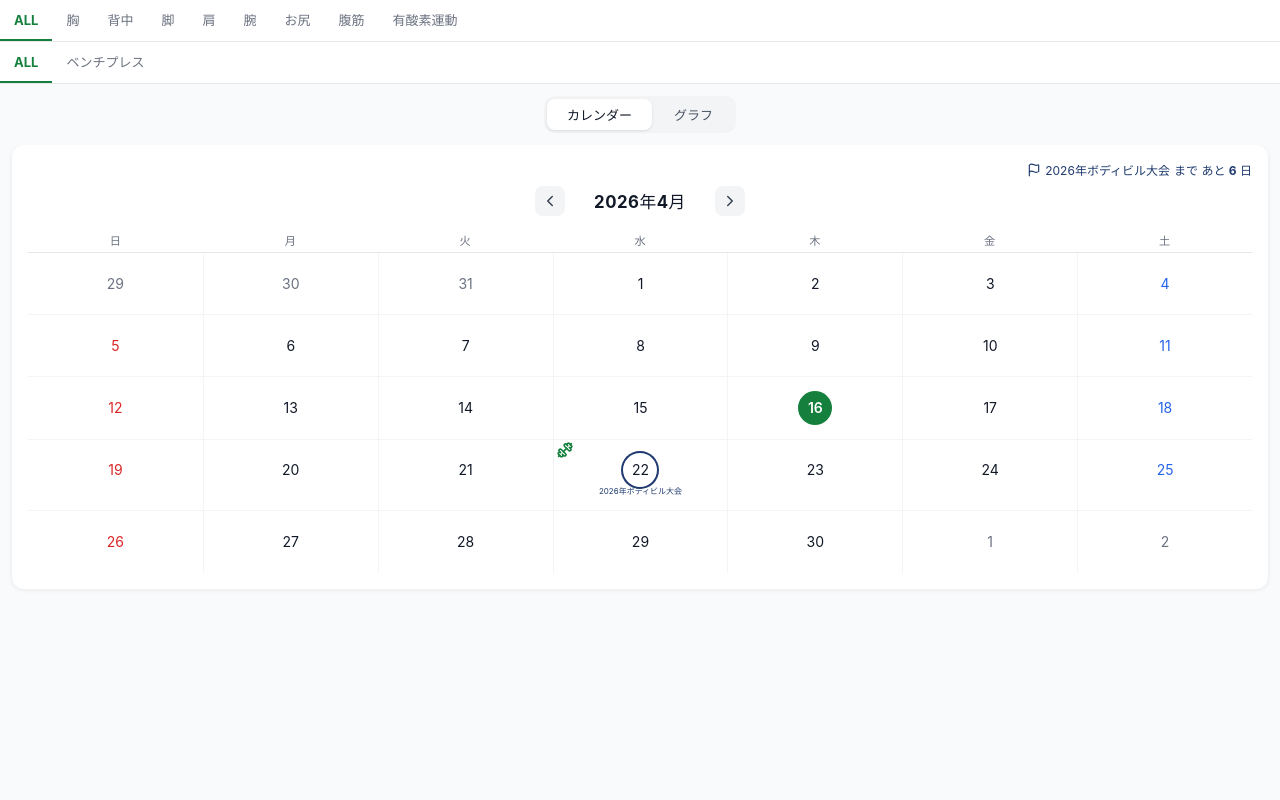
Test: HistoryPage — 日付を押したとき › 記録と大会が両方ある日は、ポップアップに種目も大会名も出る
Click the button "22 2026年ボディビル大会" at (640, 474), box [553, 439, 728, 510]
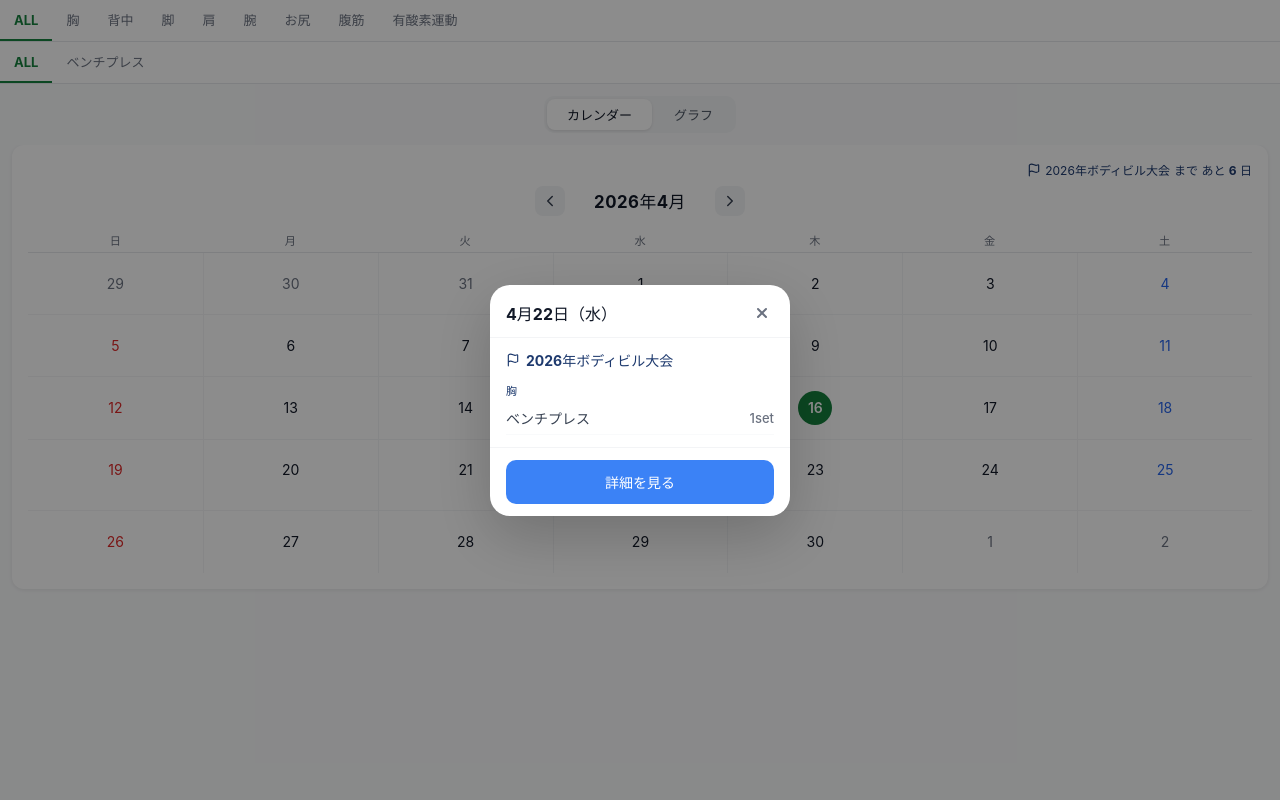
Expected: the text "ベンチプレス" is shown, [506, 408, 590, 428]
Expected: the text "2026年ボディビル大会" is shown, [526, 350, 673, 370]
